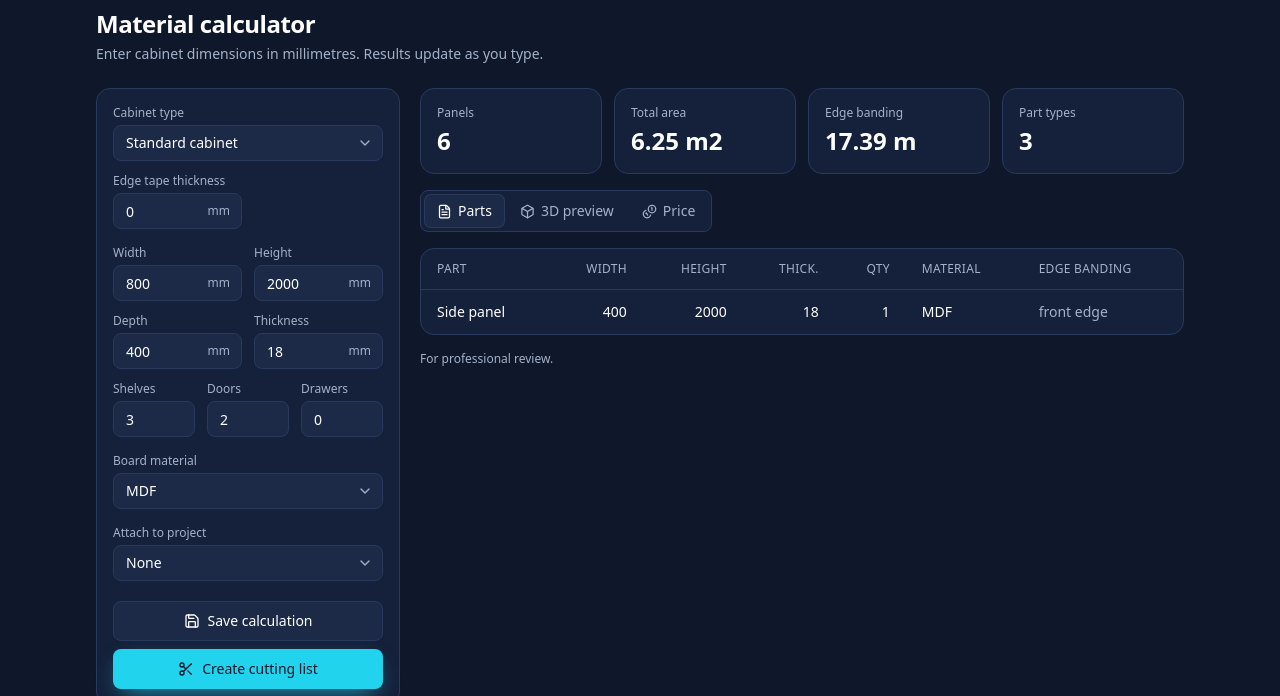
Test: Calculator: price estimate › asks for a price before showing anything and sends nothing priced until the user types a price
Click the tab "Price".
click(669, 211)  # box [630,195,707,227]
(page scrolled)
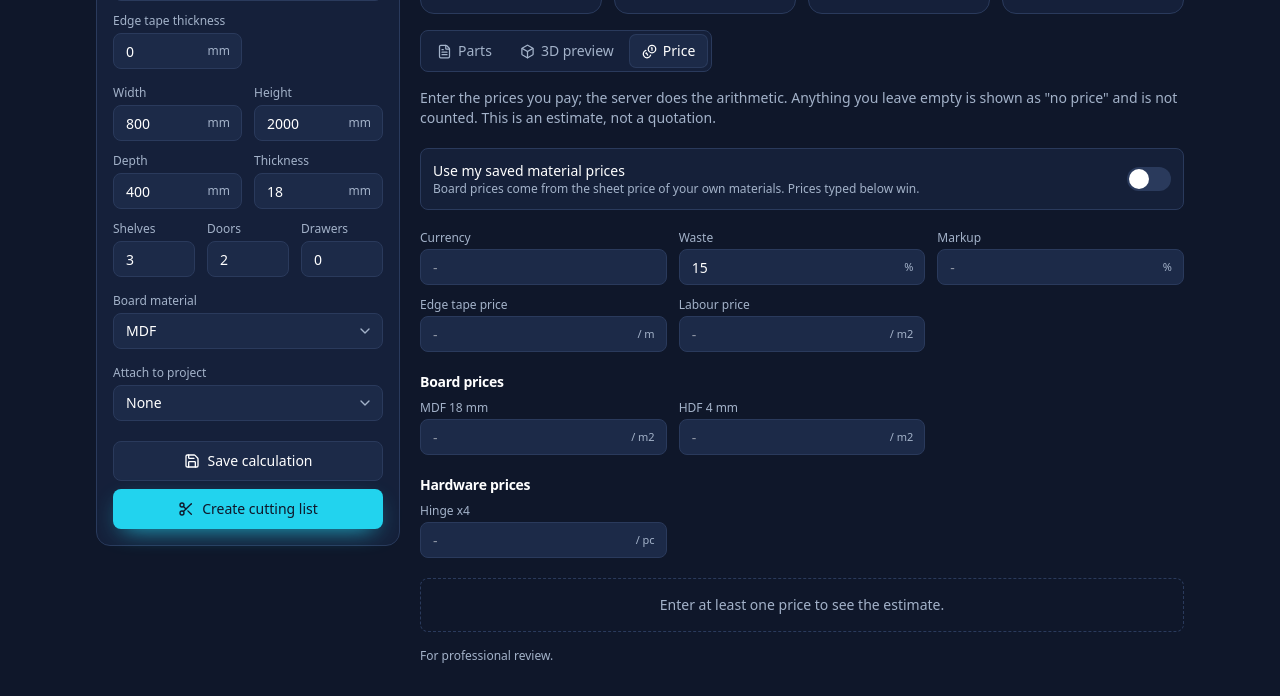
Check: the text "Enter at least one price to see the estimate." is shown, box [420,578,1184,632]
Check: the field labelled "MDF 18 mm" is shown, box [420,419,667,455]
Check: the field labelled "HDF 4 mm" is shown, box [679,419,925,455]
